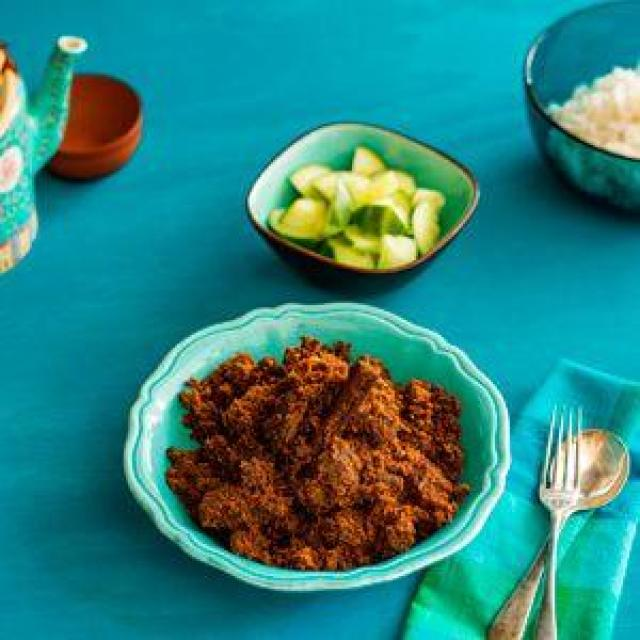Rendang: (150, 342, 490, 566)
